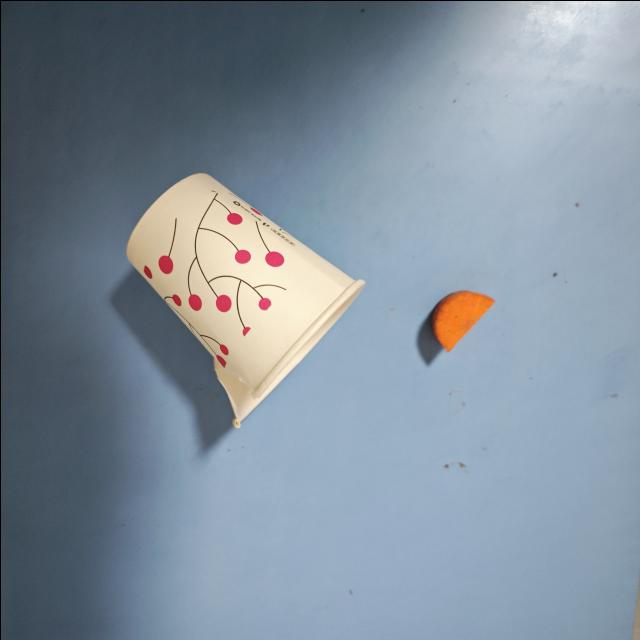-Kitchen waste - carrot-: (428, 289, 498, 353)
-Recyclables - paper cup-: (125, 172, 362, 430)
